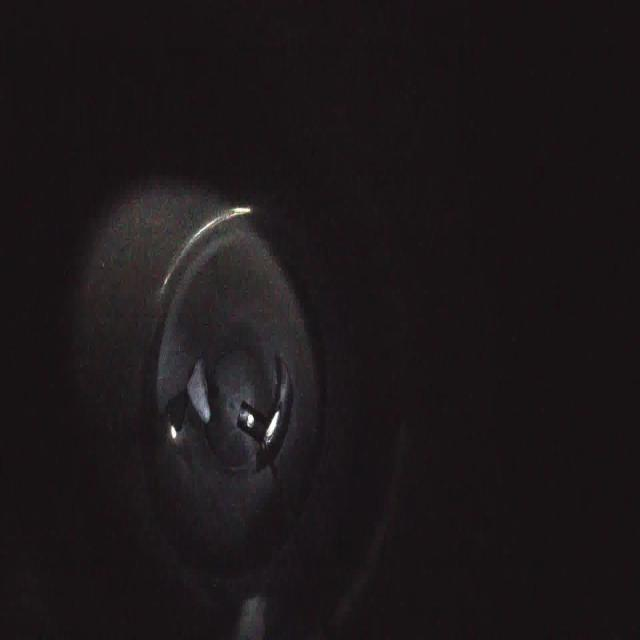impurity: (183, 354, 218, 427)
